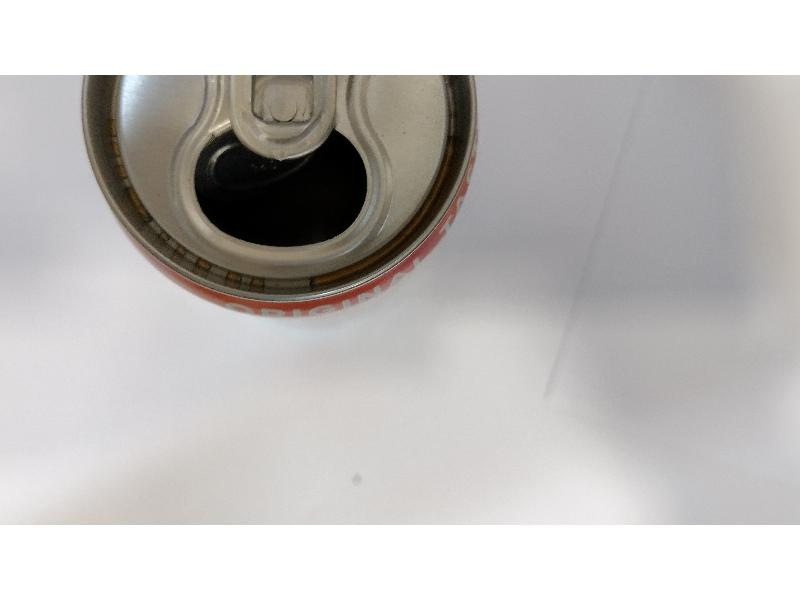can: (63, 74, 496, 331)
